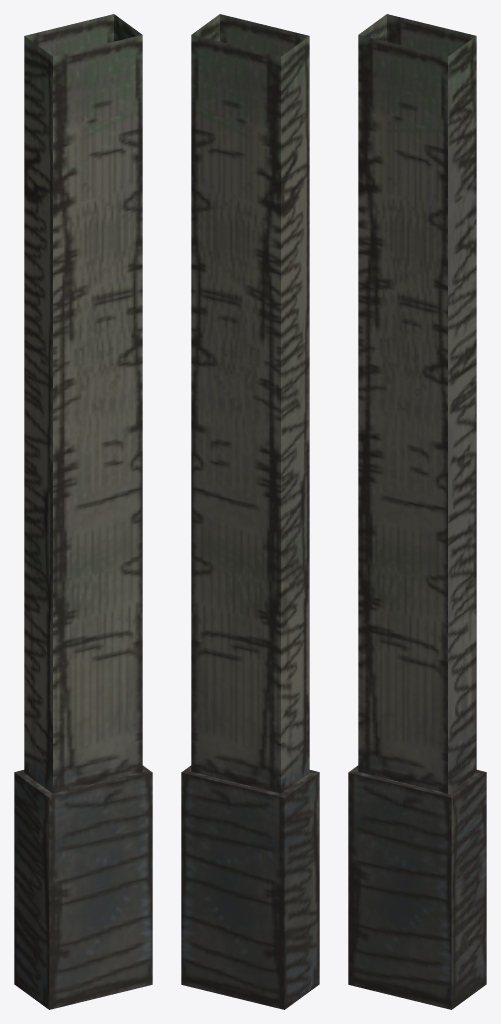
The model's file is pillor.fbx.
3 renders of one model, left to right at view 1: azimuth 30°, elevation 25°; view 2: azimuth 150°, elevation 25°; view 3: azimuth 330°, elevation 25°, orthographic.
Visible parts, largest first — view 1: Room.001; view 2: Room.001; view 3: Room.001.
Boxes of the visible parts, left/top/right/bottom form: Room.001: left=14, top=14, right=152, bottom=1009; Room.001: left=181, top=14, right=319, bottom=1009; Room.001: left=348, top=14, right=486, bottom=1009.
Bounding box in the file's own units: 38.42 × 337 × 22.55.
